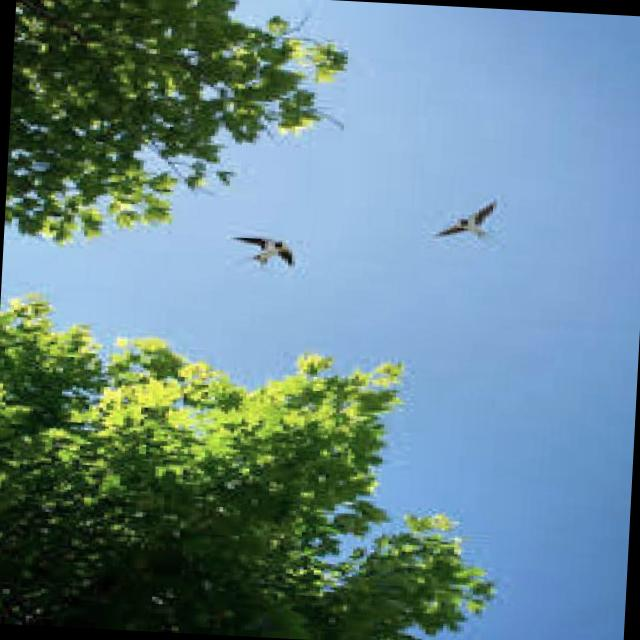bird: (434, 192, 499, 253), (234, 221, 300, 280)
